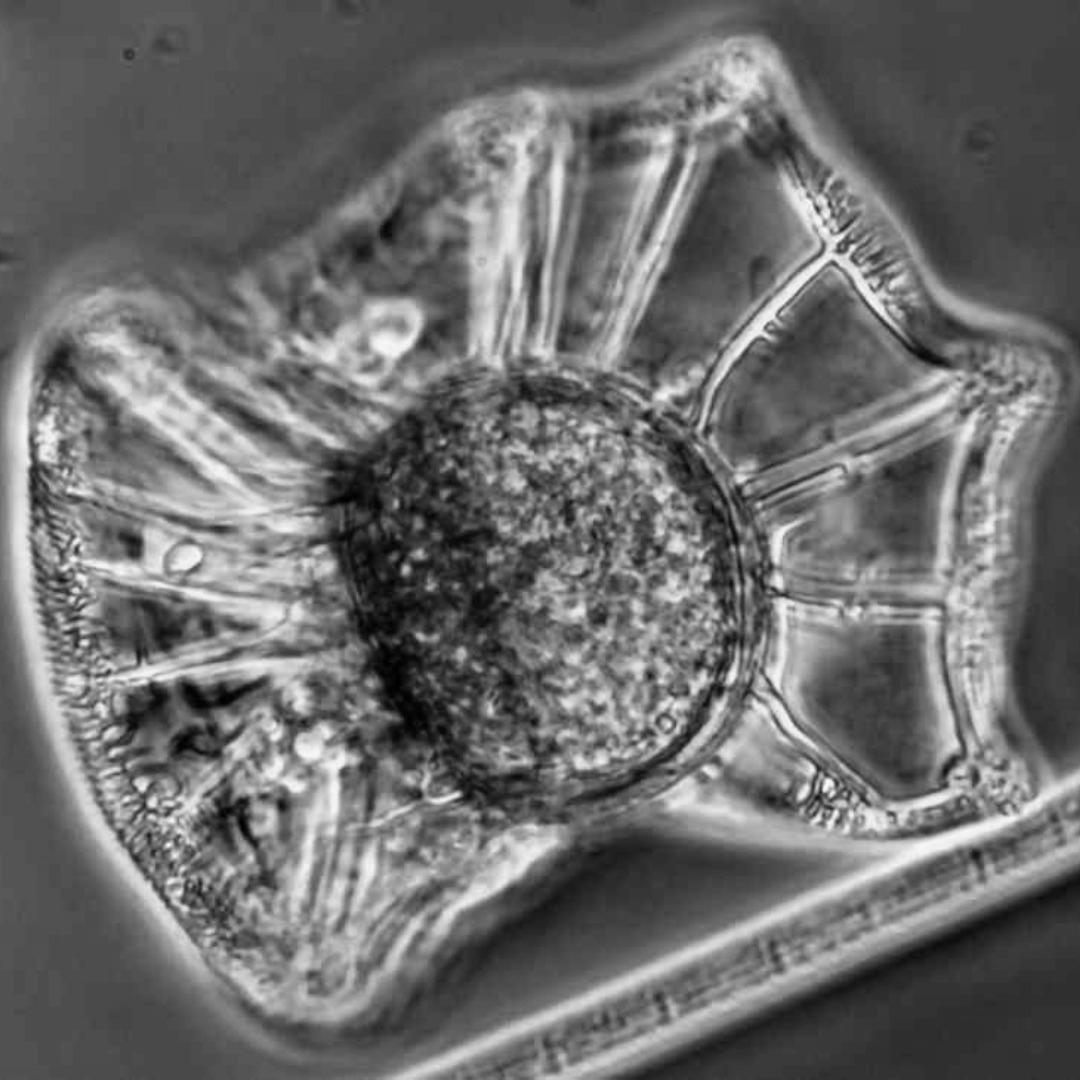ornithocercus_thumii: (28, 40, 1067, 1047)
